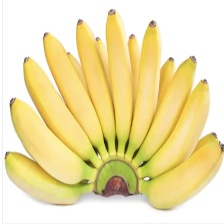banana: (19, 0, 209, 191)
